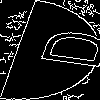D: (25, 25, 100, 70)
